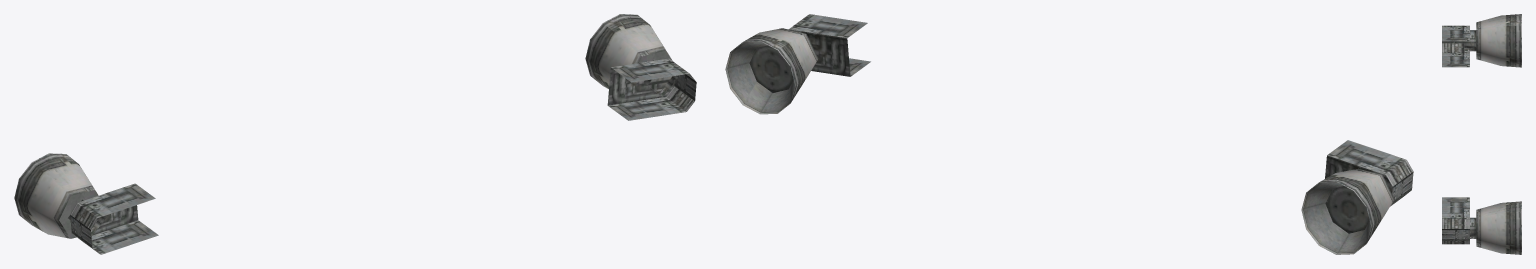
Rendered from ykl37r_booster_s01_l1.fbx.
The picture shows the model from 3 angles, left to right: view 1: azimuth 30°, elevation 25°; view 2: azimuth 150°, elevation 25°; view 3: azimuth 270°, elevation 25°; orthographic projection. The views are drawn at different scales.
Parts seen in each view (by area): view 1: mesh_node; view 2: mesh_node; view 3: mesh_node.
Boxes of the visible parts, x1=… form: mesh_node: x1=14, y1=14, x2=696, y2=254; mesh_node: x1=725, y1=14, x2=1413, y2=254; mesh_node: x1=1442, y1=14, x2=1521, y2=254.
Size of the model in its own units: 17.77 by 1.92 by 2.85.
